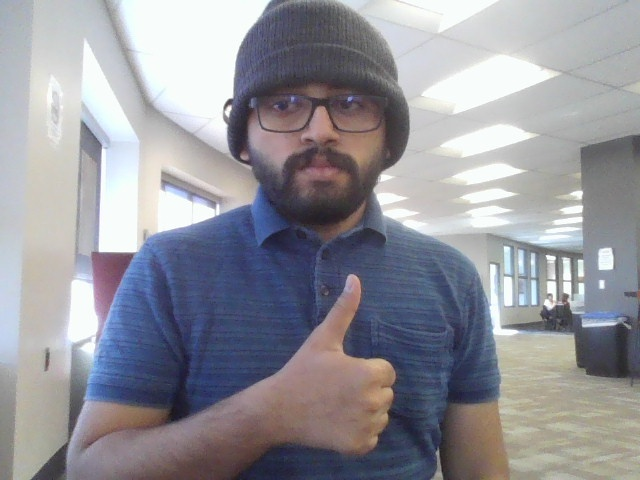start: (279, 267, 410, 464)
